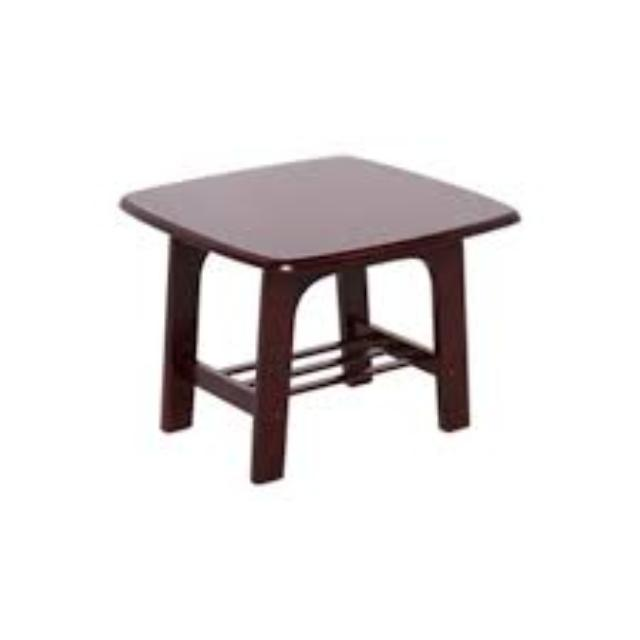obstacle: (101, 97, 546, 505)
